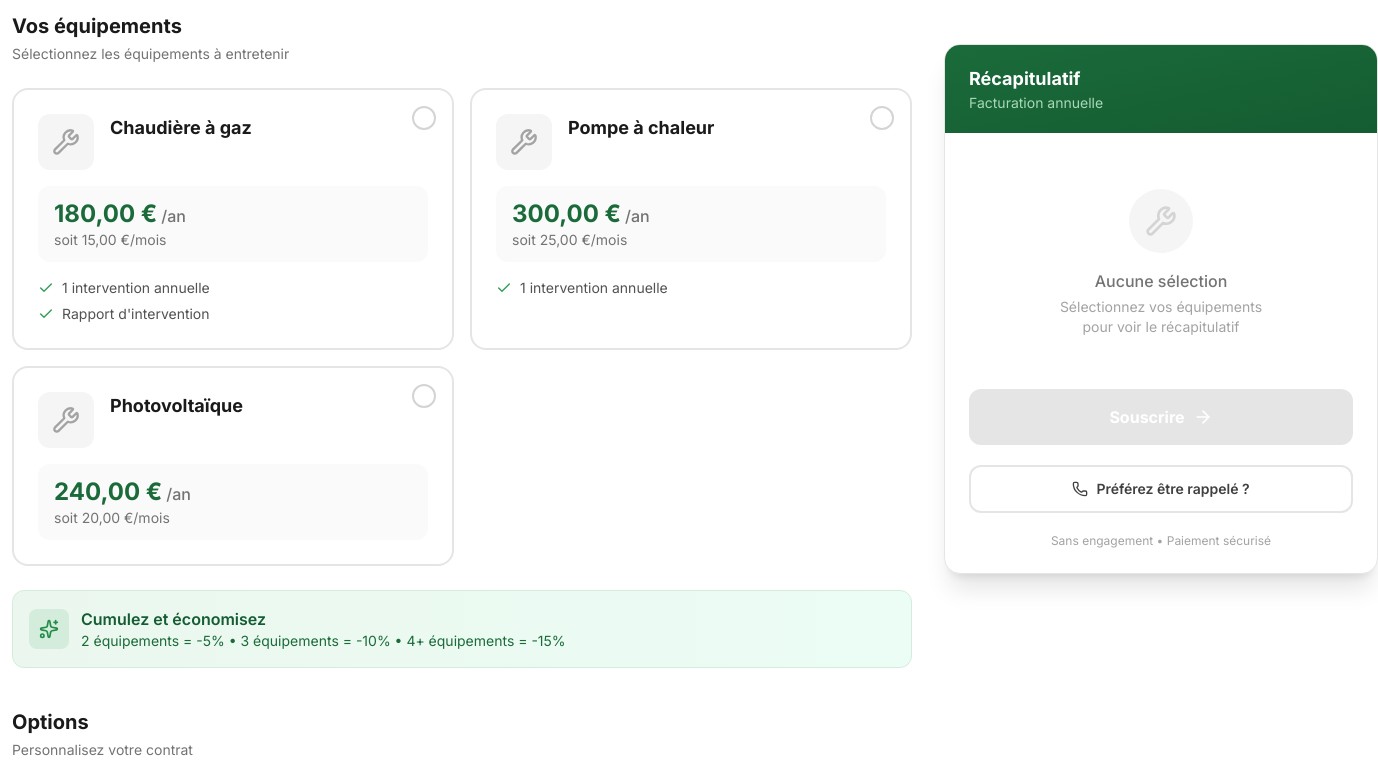
MaintenanceConfigurator › toggles service selection on/off
Click the button that starts with "Chaudière à gaz": coordinates (233, 219) [14, 90, 452, 348]
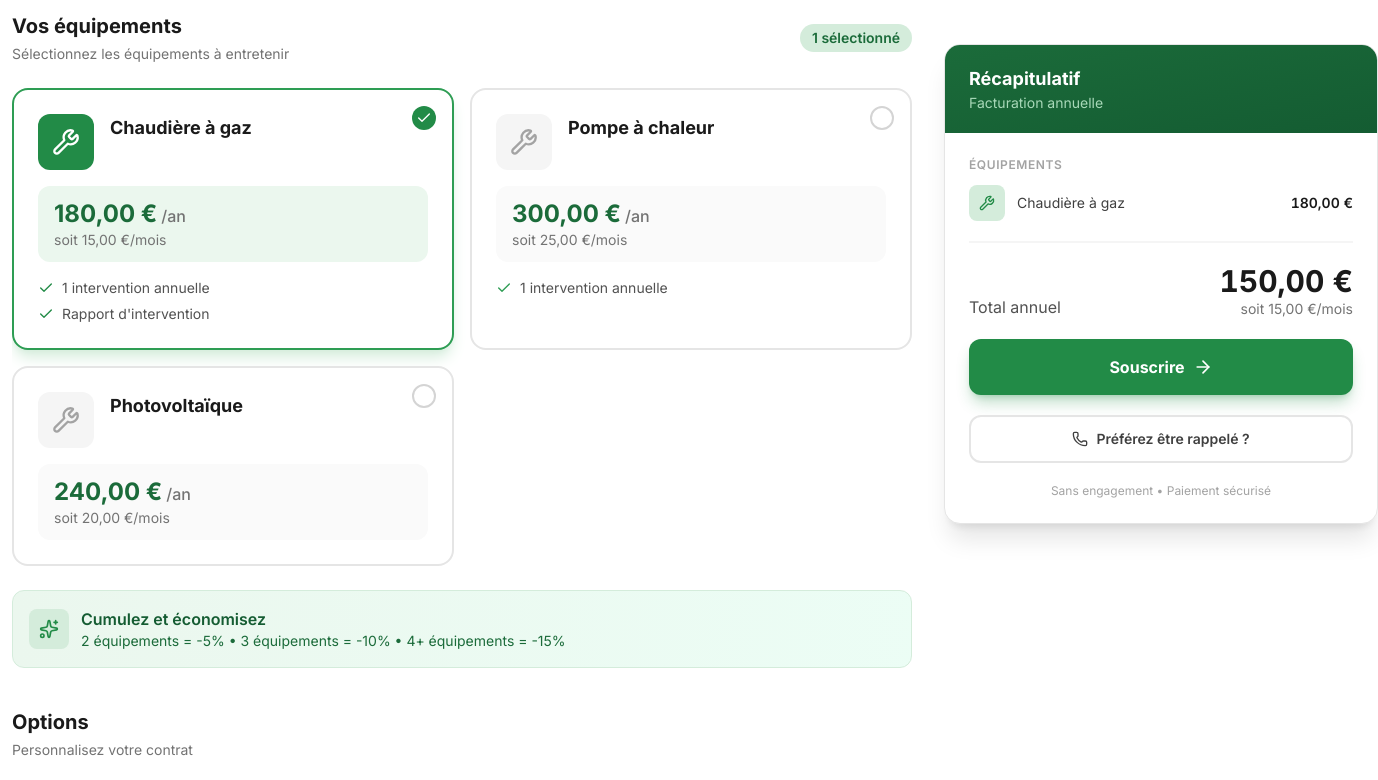
Check: the button "Souscrire" is enabled, box [969, 339, 1353, 395]
Click the button that starts with "Chaudière à gaz": coordinates (233, 219) [14, 90, 452, 348]
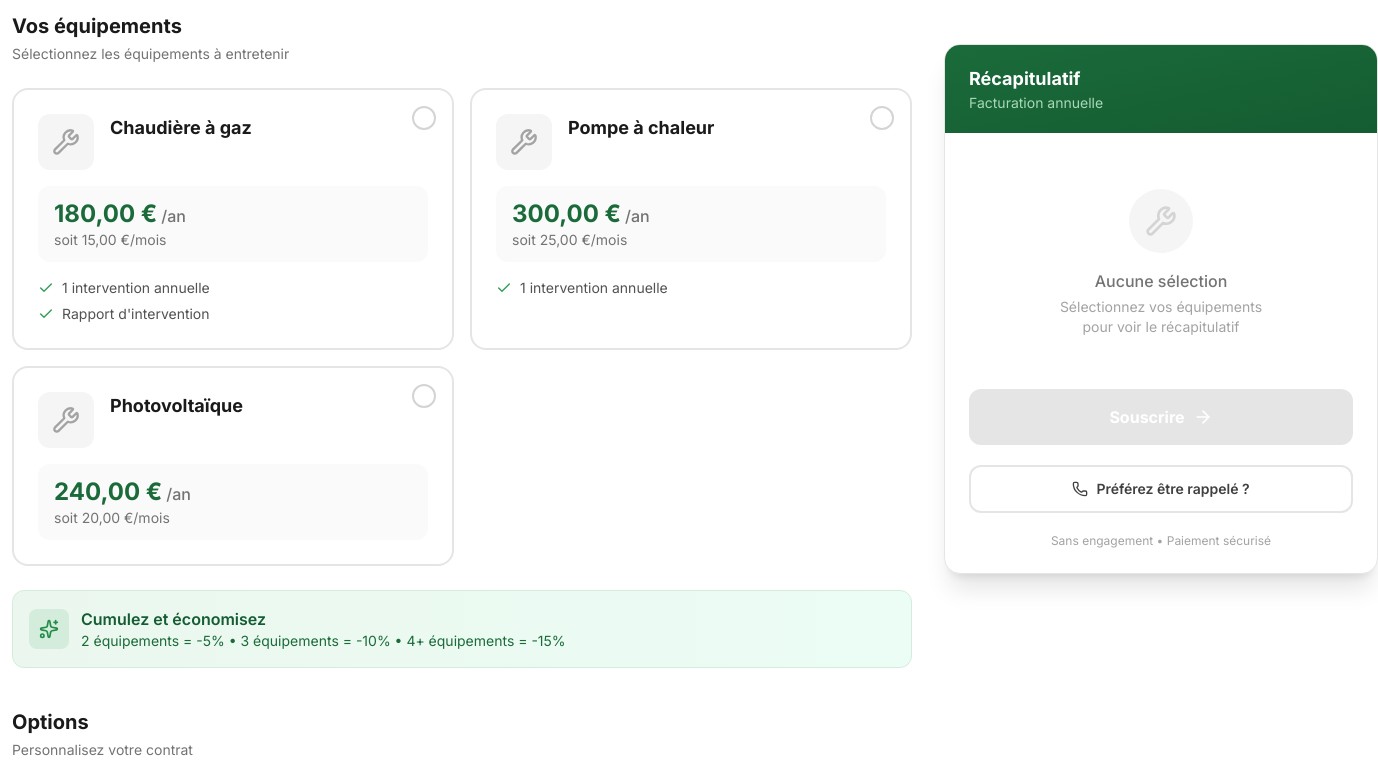
Check: the button "Souscrire" is disabled, box [969, 389, 1353, 445]
